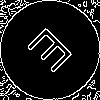E: (25, 25, 81, 81)
